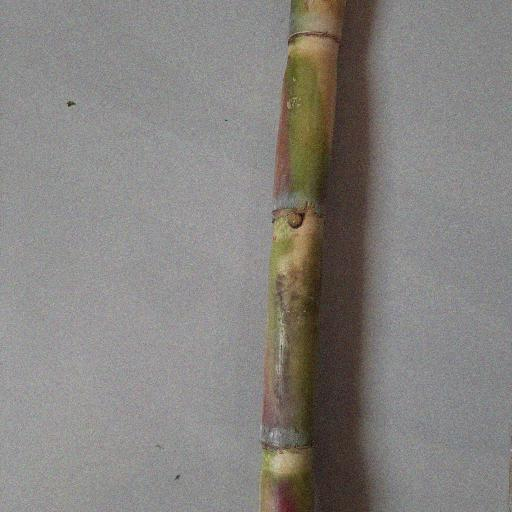Bud: (287, 211, 305, 229)
